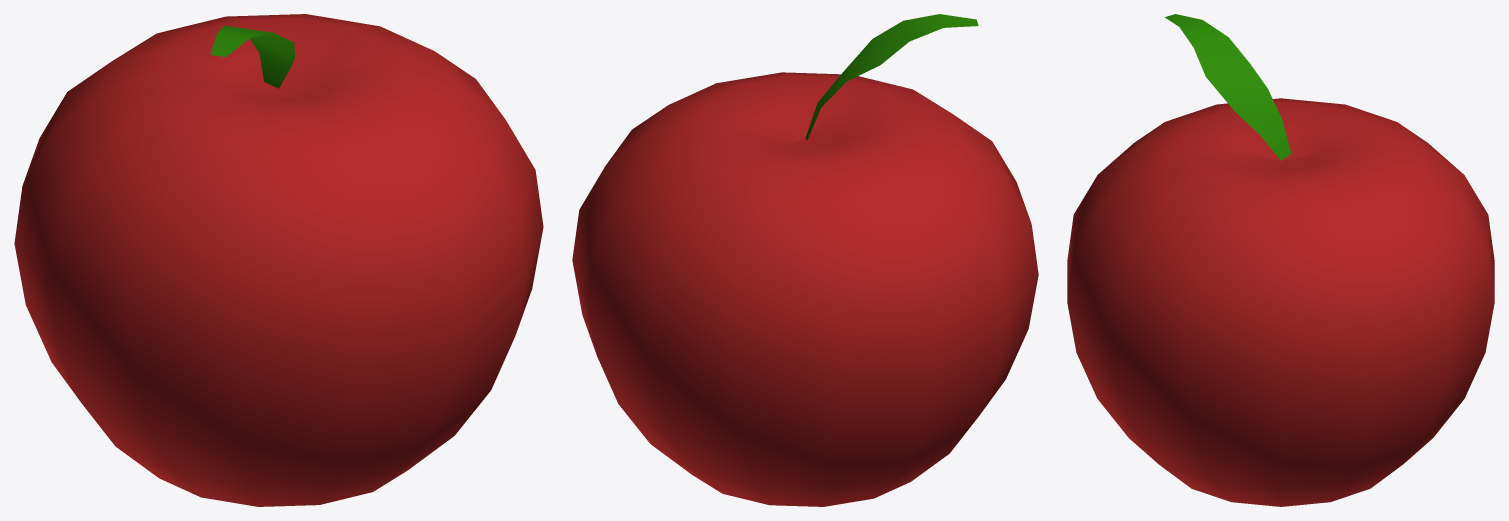
The model's file is RedApple.dae.
3 renders of one model, left to right at view 1: azimuth 30°, elevation 25°; view 2: azimuth 150°, elevation 25°; view 3: azimuth 270°, elevation 25°, orthographic. The views are drawn at different scales.
Visible parts, largest first — view 1: apple_half_1 (×2), leaf; view 2: apple_half_1 (×2), leaf; view 3: apple_half_1 (×2), leaf.
Part boxes in pixels (x1,y1,x2,y2): apple_half_1 (×2): (14,14,543,506); leaf: (210,25,295,88); apple_half_1 (×2): (572,72,1038,506); leaf: (805,14,978,139); apple_half_1 (×2): (1067,98,1494,506); leaf: (1164,14,1291,160).
Size of the model in its own units: 2.79 by 2.72 by 2.83.
